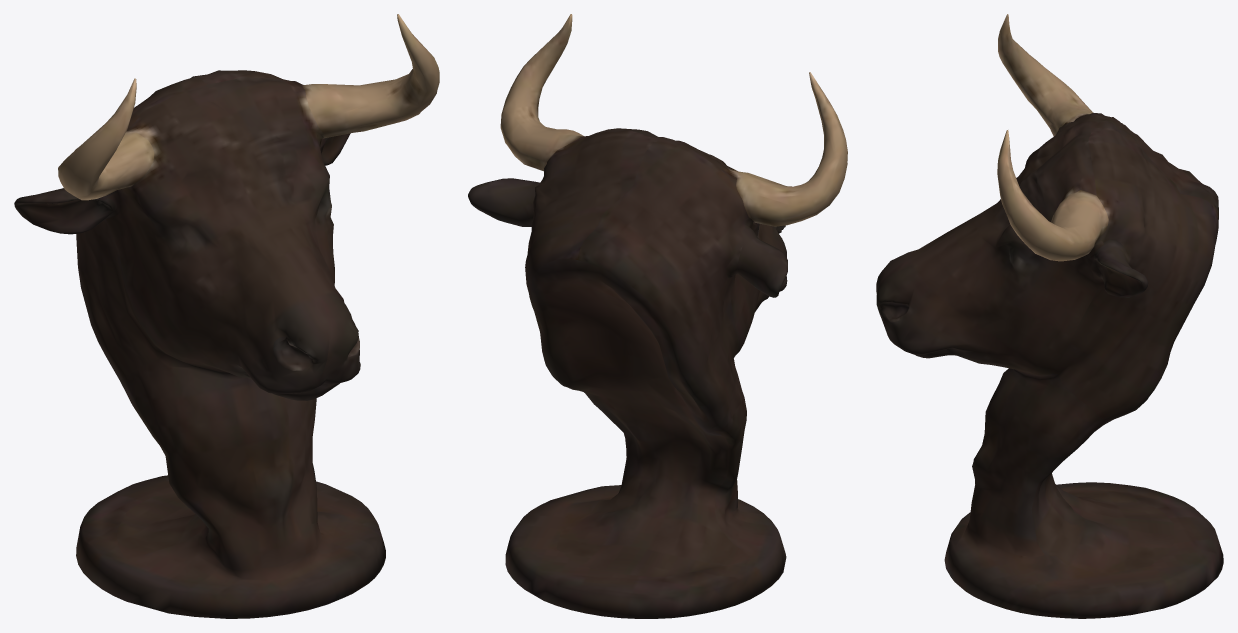
Rendered from kai_lo.glb.
3 views of the same model, side by side, from view 1: azimuth 30°, elevation 25°; view 2: azimuth 150°, elevation 25°; view 3: azimuth 270°, elevation 25° (orthographic). The views are drawn at different scales.
Parts seen in each view (by area): view 1: bull_head; view 2: bull_head; view 3: bull_head.
Boxes of the visible parts, x1,y1,x2,y2 form: bull_head: (14,14,439,618); bull_head: (468,14,847,618); bull_head: (876,14,1223,618).
Size of the model in its own units: 0.3062 by 0.4326 by 0.2805.
1 material, 1 textured.
